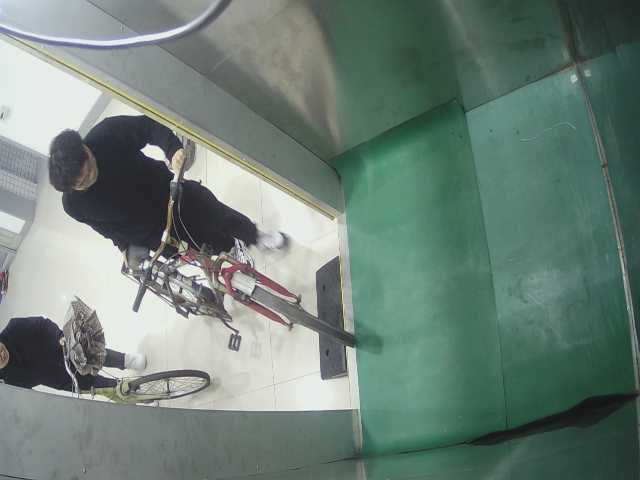bicycle: (116, 153, 360, 349), (58, 334, 222, 419)
person: (48, 106, 291, 278), (1, 306, 144, 395)
